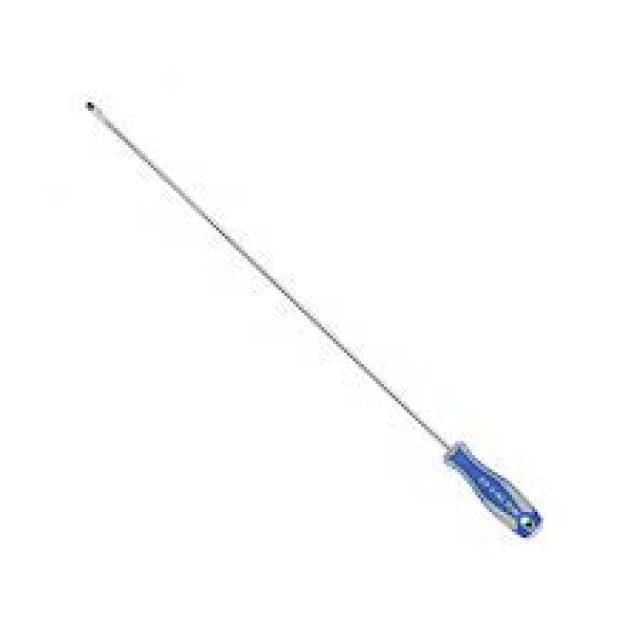screwdriver: (78, 98, 550, 545)
